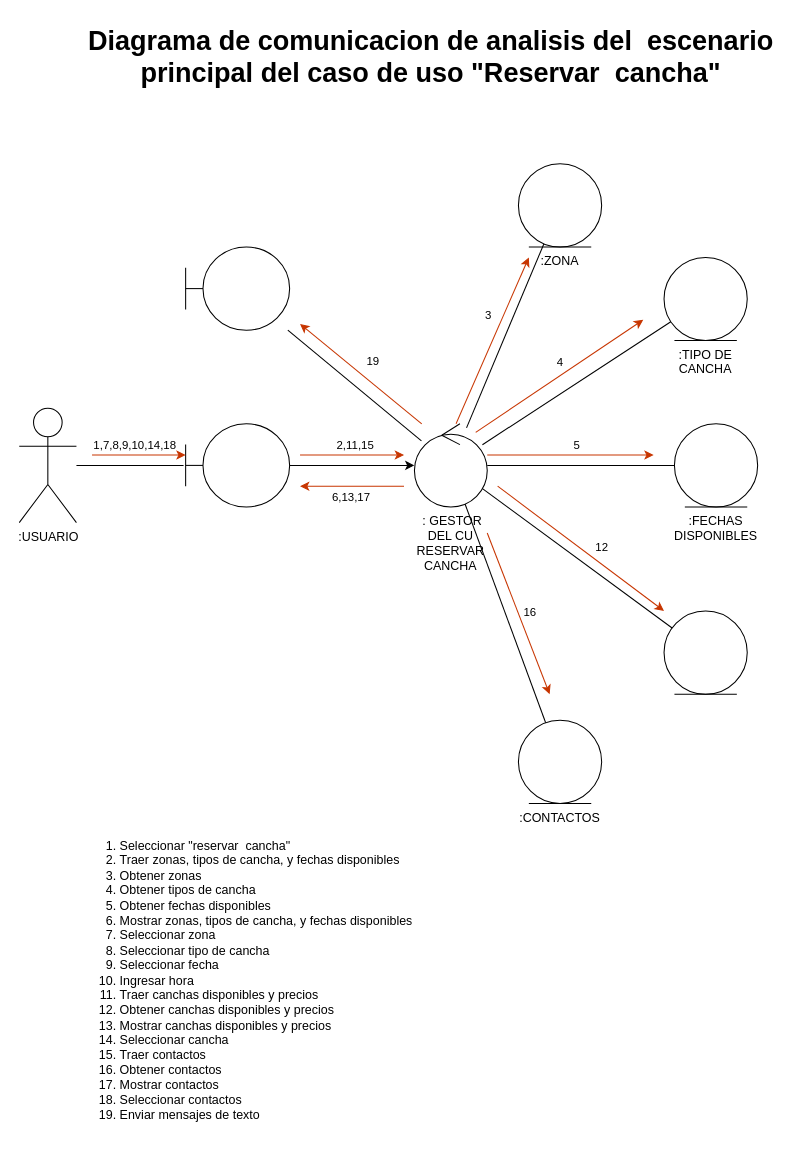
The diagram is 807 pixels wide and 1151 high, and some of its shapes have lost their labels. The shapes that lost their labels are listed below. From the top down, each one's box as (x1, y1, x2, y2) in pixels, then its label:
(185, 246, 290, 330): : INTERFAZ COMUNICACION CON WHATSAPP
(185, 423, 290, 507): : INTERFAZ DEL CU RESERVAR CANCHA
(663, 610, 747, 694): :CANCHAS DISPONIBLES
